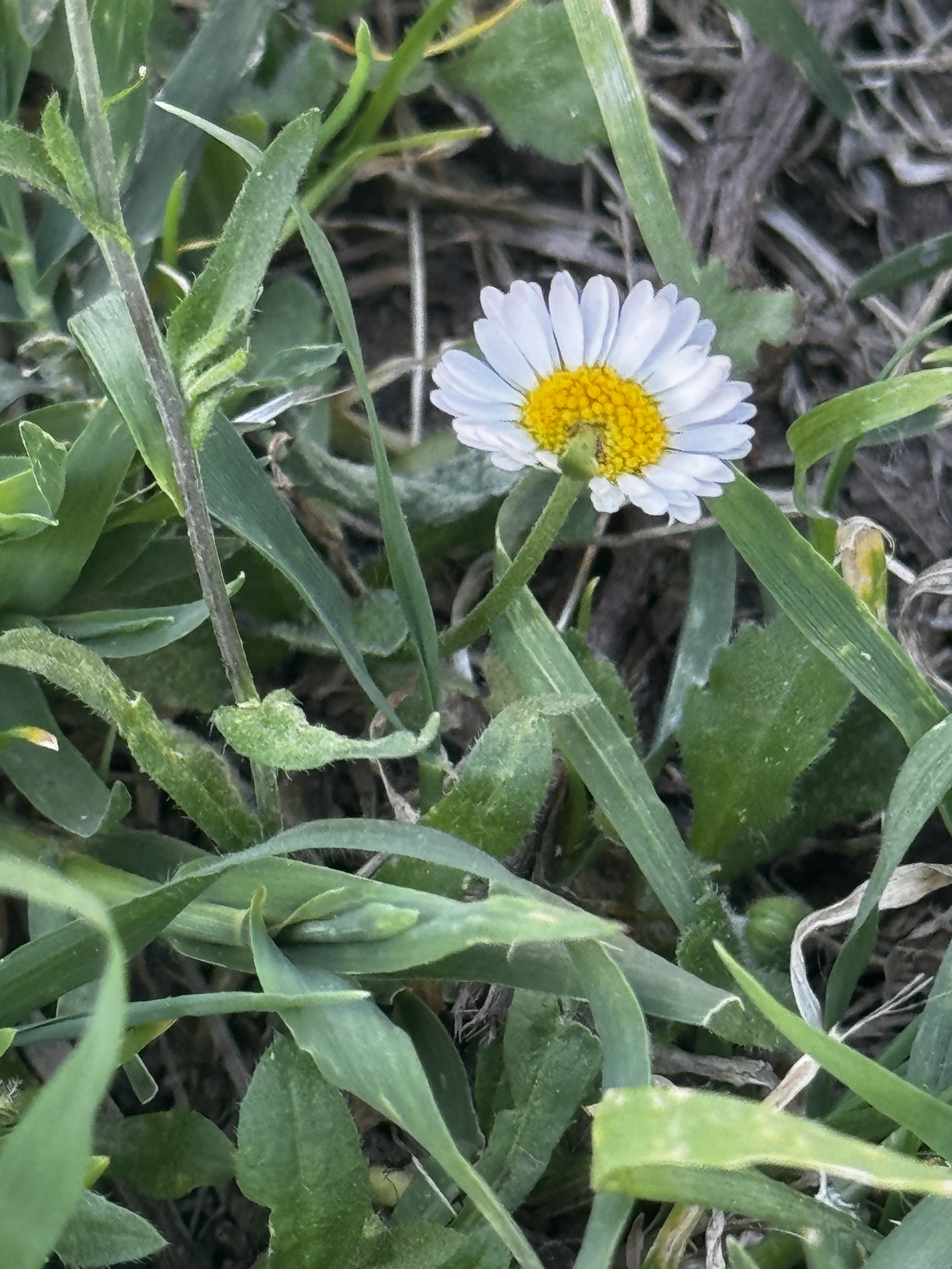daisy: (415, 272, 759, 524)
